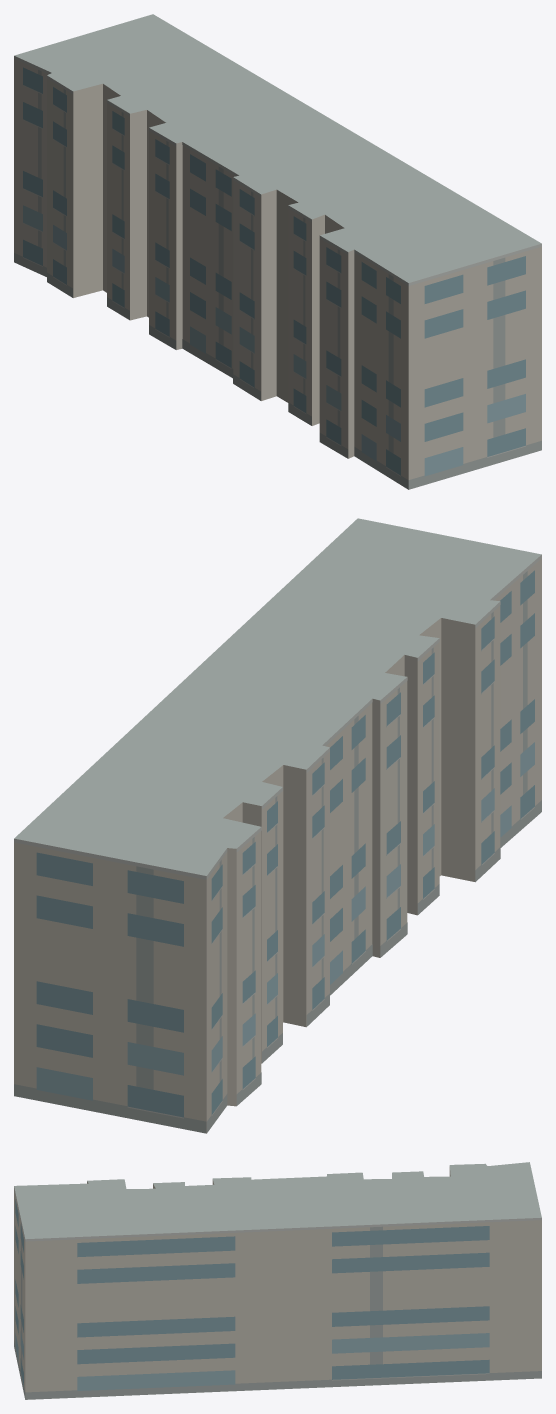
The model's file is survey-upis-32644022.glb.
3 renders of one model, top to bottom at view 1: azimuth 30°, elevation 25°; view 2: azimuth 150°, elevation 25°; view 3: azimuth 270°, elevation 25°, orthographic. The views are drawn at different scales.
Visible parts, largest first — view 1: survey-upis-32644022.tmp; view 2: survey-upis-32644022.tmp; view 3: survey-upis-32644022.tmp.
Boxes of the visible parts, x1,y1,x2,y2 form: survey-upis-32644022.tmp: [14, 14, 541, 489]; survey-upis-32644022.tmp: [14, 518, 541, 1133]; survey-upis-32644022.tmp: [14, 1162, 541, 1399].
Size of the model in its own units: 16.89 by 16.4 by 48.84.
